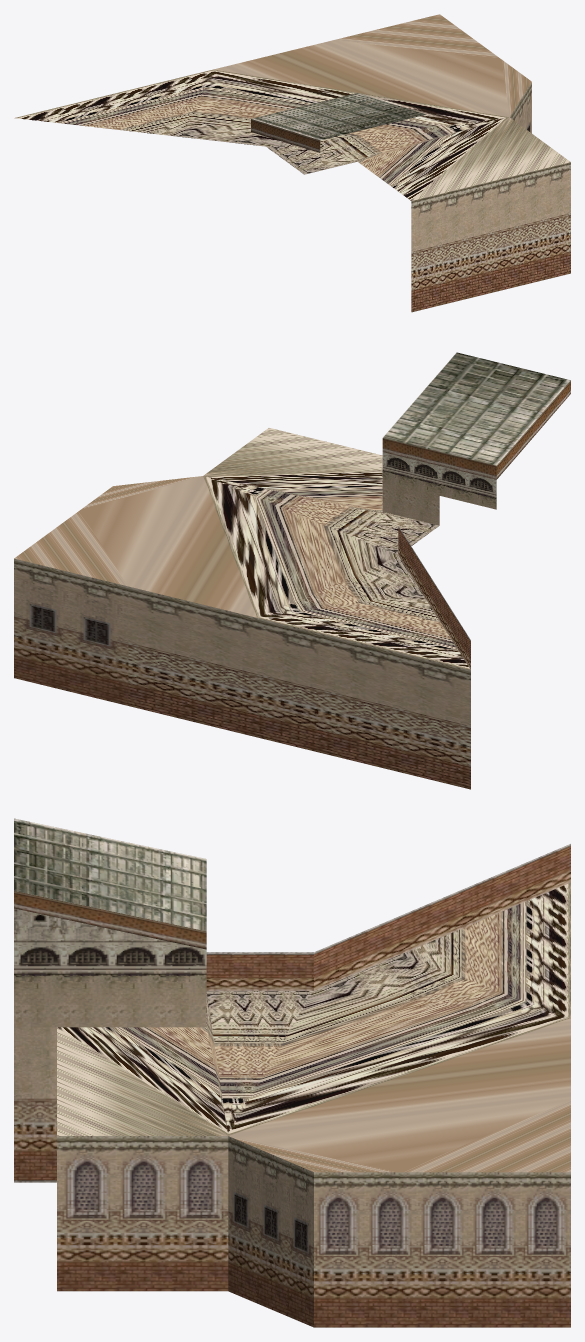
The model's file is M2Zone1_Mosque_A.glb.
3 views of the same model, one above another, from view 1: azimuth 30°, elevation 25°; view 2: azimuth 150°, elevation 25°; view 3: azimuth 270°, elevation 25° (orthographic). The views are drawn at different scales.
Parts seen in each view (by area): view 1: M2ZONE1_MOSQUE_A; view 2: M2ZONE1_MOSQUE_A; view 3: M2ZONE1_MOSQUE_A.
Part boxes in pixels (x1,y1,x2,y2): M2ZONE1_MOSQUE_A: [14, 14, 570, 312]; M2ZONE1_MOSQUE_A: [14, 352, 570, 789]; M2ZONE1_MOSQUE_A: [14, 818, 570, 1327].
Bounding box in the file's own units: 32 × 15.03 × 26.
6 materials, 6 textured.
